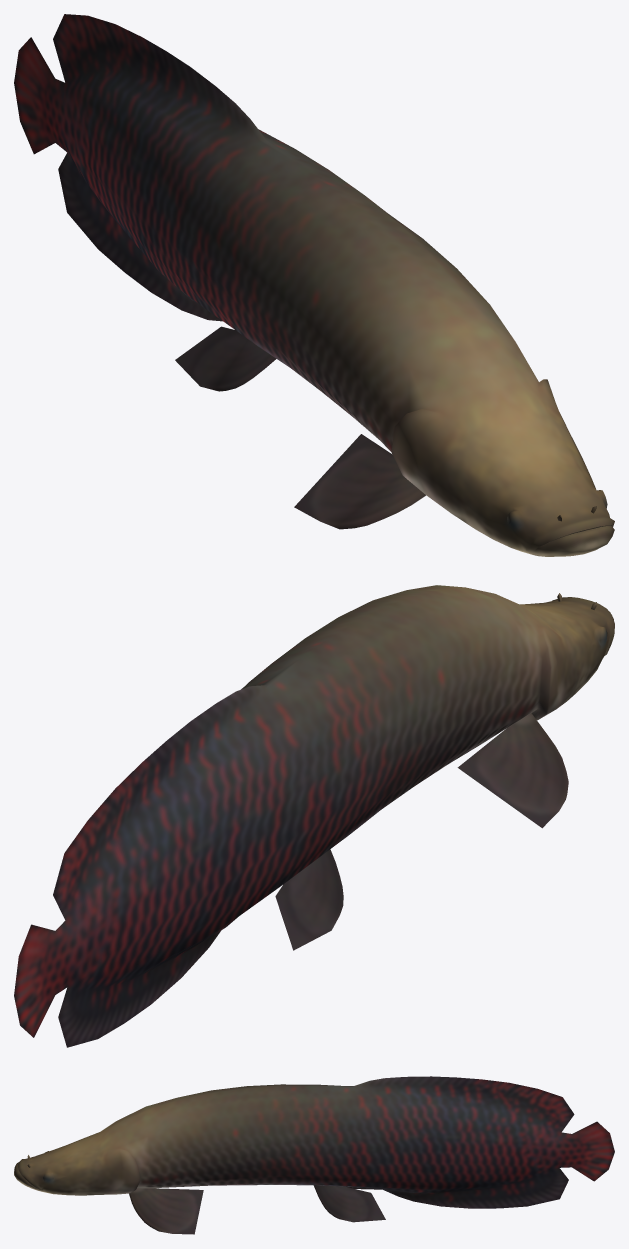
The model's file is arapaima.glb.
3 renders of one model, top to bottom at view 1: azimuth 30°, elevation 25°; view 2: azimuth 150°, elevation 25°; view 3: azimuth 270°, elevation 25°, orthographic. The views are drawn at different scales.
Parts seen in each view (by area): view 1: FishPiraruku__mPiraruku; view 2: FishPiraruku__mPiraruku; view 3: FishPiraruku__mPiraruku.
Part boxes in pixels (bbox=[...]): FishPiraruku__mPiraruku: bbox=[14, 14, 614, 556]; FishPiraruku__mPiraruku: bbox=[14, 585, 614, 1047]; FishPiraruku__mPiraruku: bbox=[14, 1076, 614, 1234].
Size of the model in its own units: 7.91 by 7.75 by 31.9.
1 material, 1 textured.
